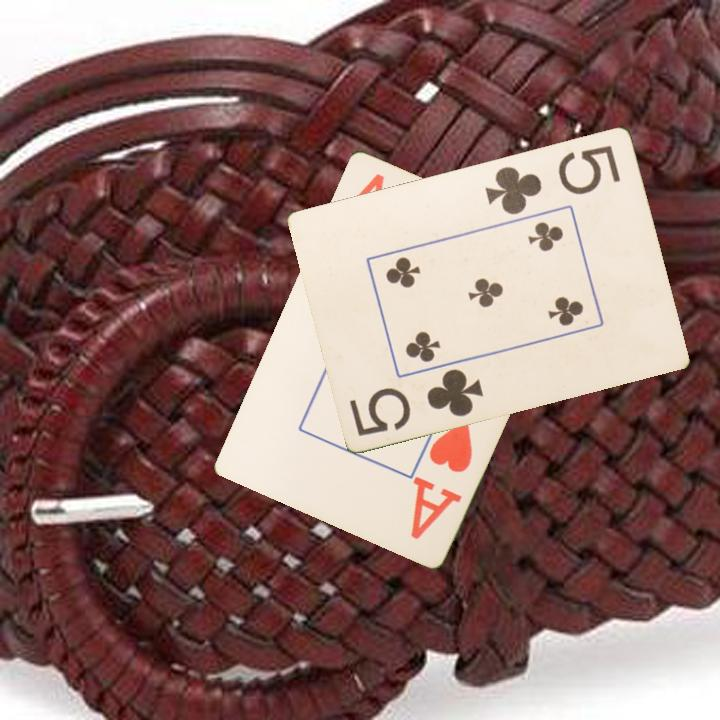5c: (481, 141, 624, 217), (346, 364, 487, 439)
Ah: (406, 414, 476, 542)
